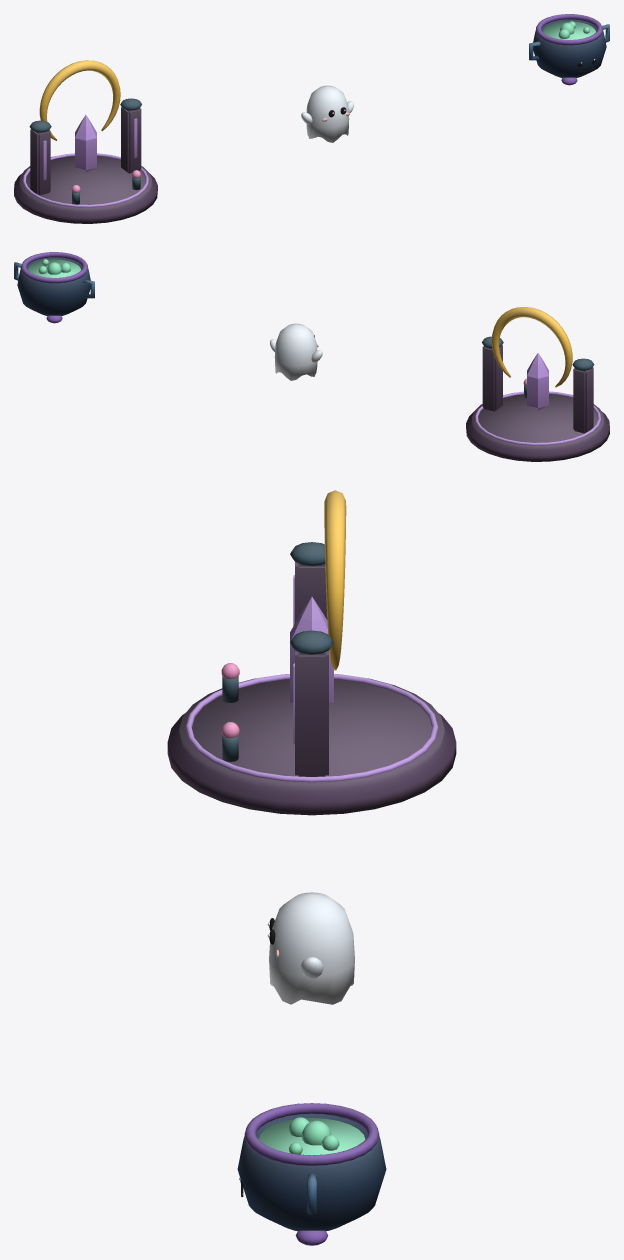
File: Cursed.fbx
3 views of the same model, one above another, from view 1: azimuth 30°, elevation 25°; view 2: azimuth 150°, elevation 25°; view 3: azimuth 270°, elevation 25° (orthographic). The views are drawn at different scales.
Parts seen in each view (by area): view 1: Cursed_MoonShrine, Cursed_PotionCauldron, Cursed_FriendlyGhost; view 2: Cursed_MoonShrine, Cursed_PotionCauldron, Cursed_FriendlyGhost; view 3: Cursed_MoonShrine, Cursed_PotionCauldron, Cursed_FriendlyGhost.
Boxes of the visible parts, x1=… form: Cursed_MoonShrine: x1=14, y1=60, x2=157, y2=223; Cursed_PotionCauldron: x1=529, y1=14, x2=609, y2=85; Cursed_FriendlyGhost: x1=301, y1=85, x2=353, y2=142; Cursed_MoonShrine: x1=466, y1=307, x2=609, y2=461; Cursed_PotionCauldron: x1=14, y1=252, x2=94, y2=323; Cursed_FriendlyGhost: x1=270, y1=323, x2=322, y2=380; Cursed_MoonShrine: x1=167, y1=490, x2=456, y2=815; Cursed_PotionCauldron: x1=237, y1=1103, x2=386, y2=1245; Cursed_FriendlyGhost: x1=267, y1=892, x2=354, y2=1004.
Size of the model in its own units: 58.19 by 12.12 by 12.4.
Materials: 1 (1 with a texture image).
